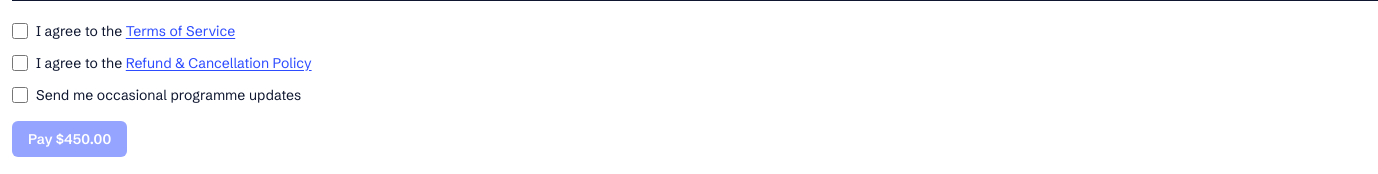
PolicyConsentForm › enables Pay once both required controls are checked
The image size is (1378, 174).
Click the checkbox labelled "I agree to the Terms of Service" at (20, 31), box [12, 23, 28, 39]
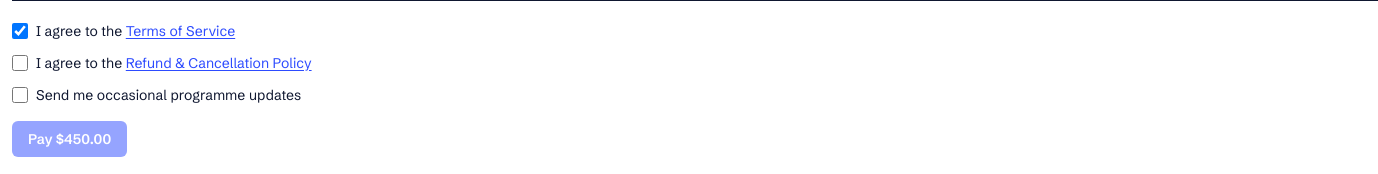
Click the checkbox labelled "I agree to the Refund & Cancellation Policy" at (20, 63), box [12, 55, 28, 71]
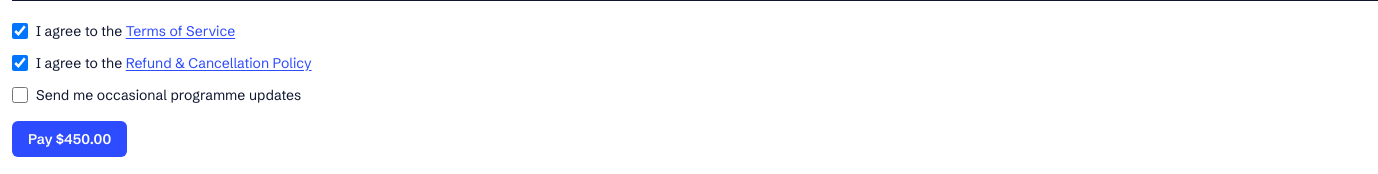
Now the button "Pay $450.00" is enabled, box [12, 121, 127, 157]
